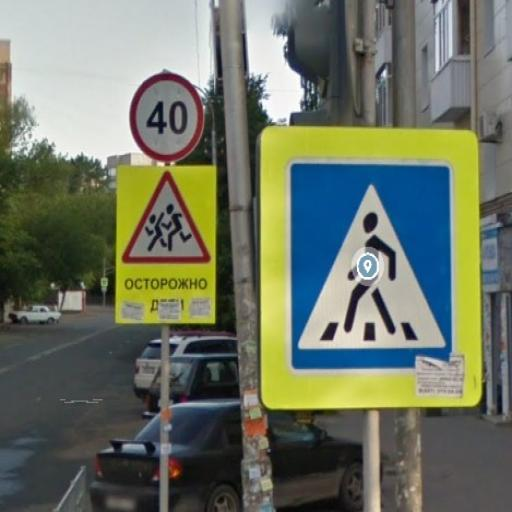traffic_sign: (259, 126, 483, 412), (123, 171, 213, 267), (130, 72, 206, 164)
